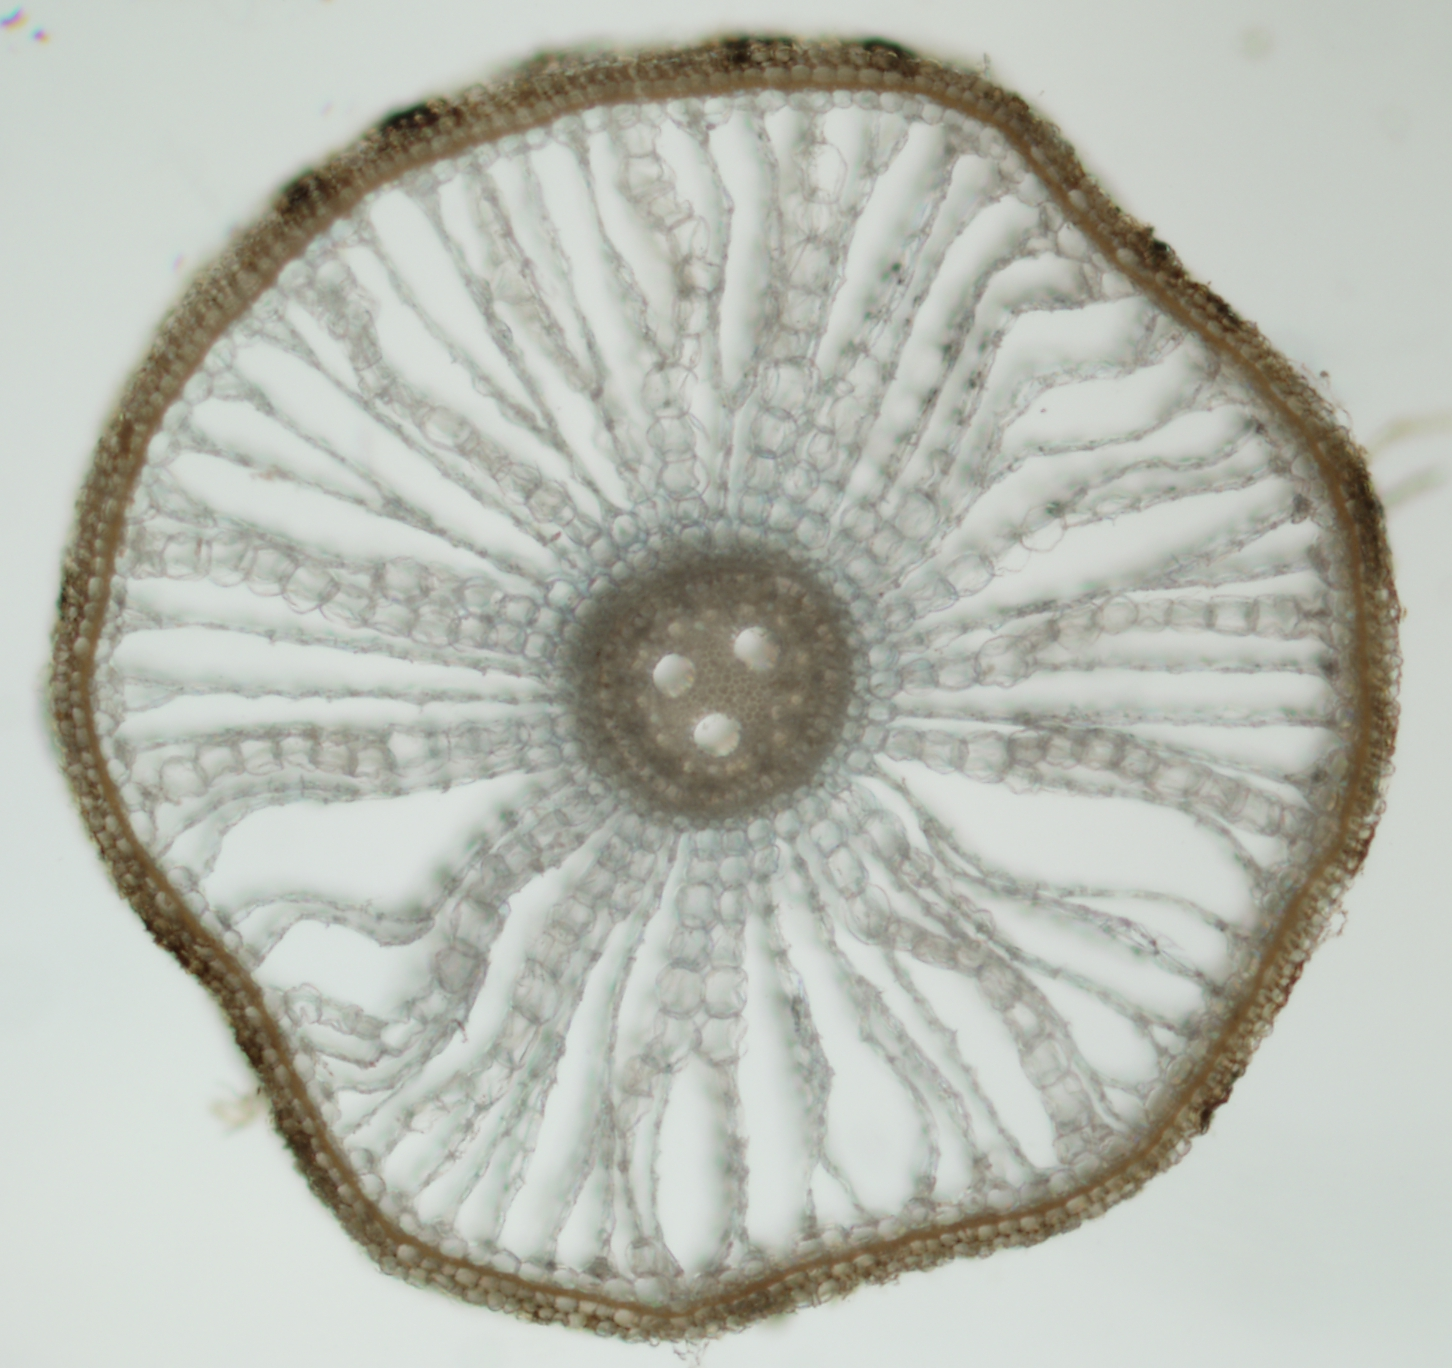lm: (734, 626, 781, 672), (694, 714, 742, 757), (652, 653, 696, 698)
